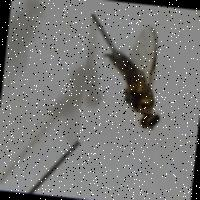Oriental-fruit-fly: (76, 13, 178, 150)
